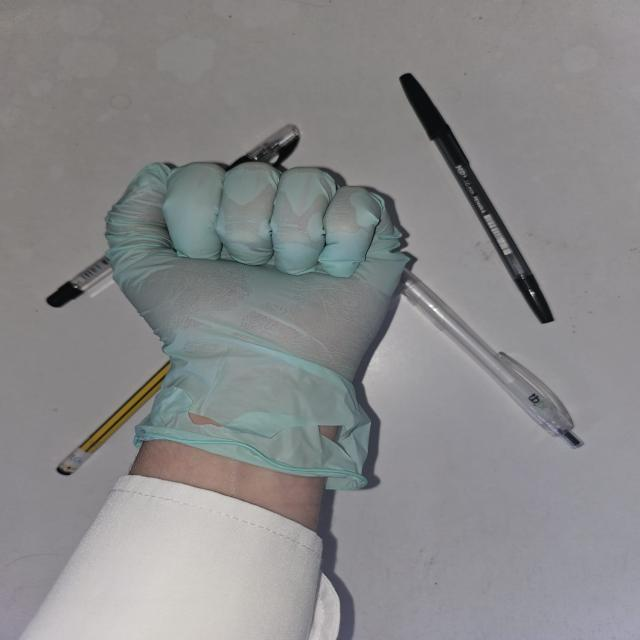gloves_damaged: (102, 160, 412, 498)
